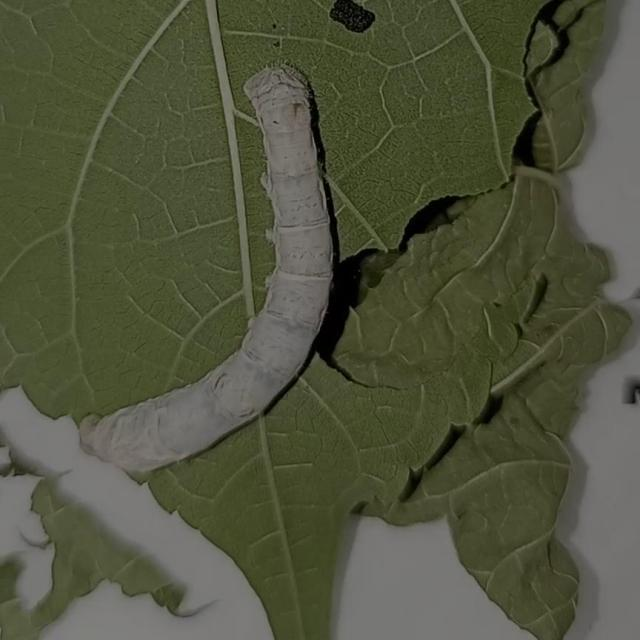Healthy: (72, 39, 350, 465)
